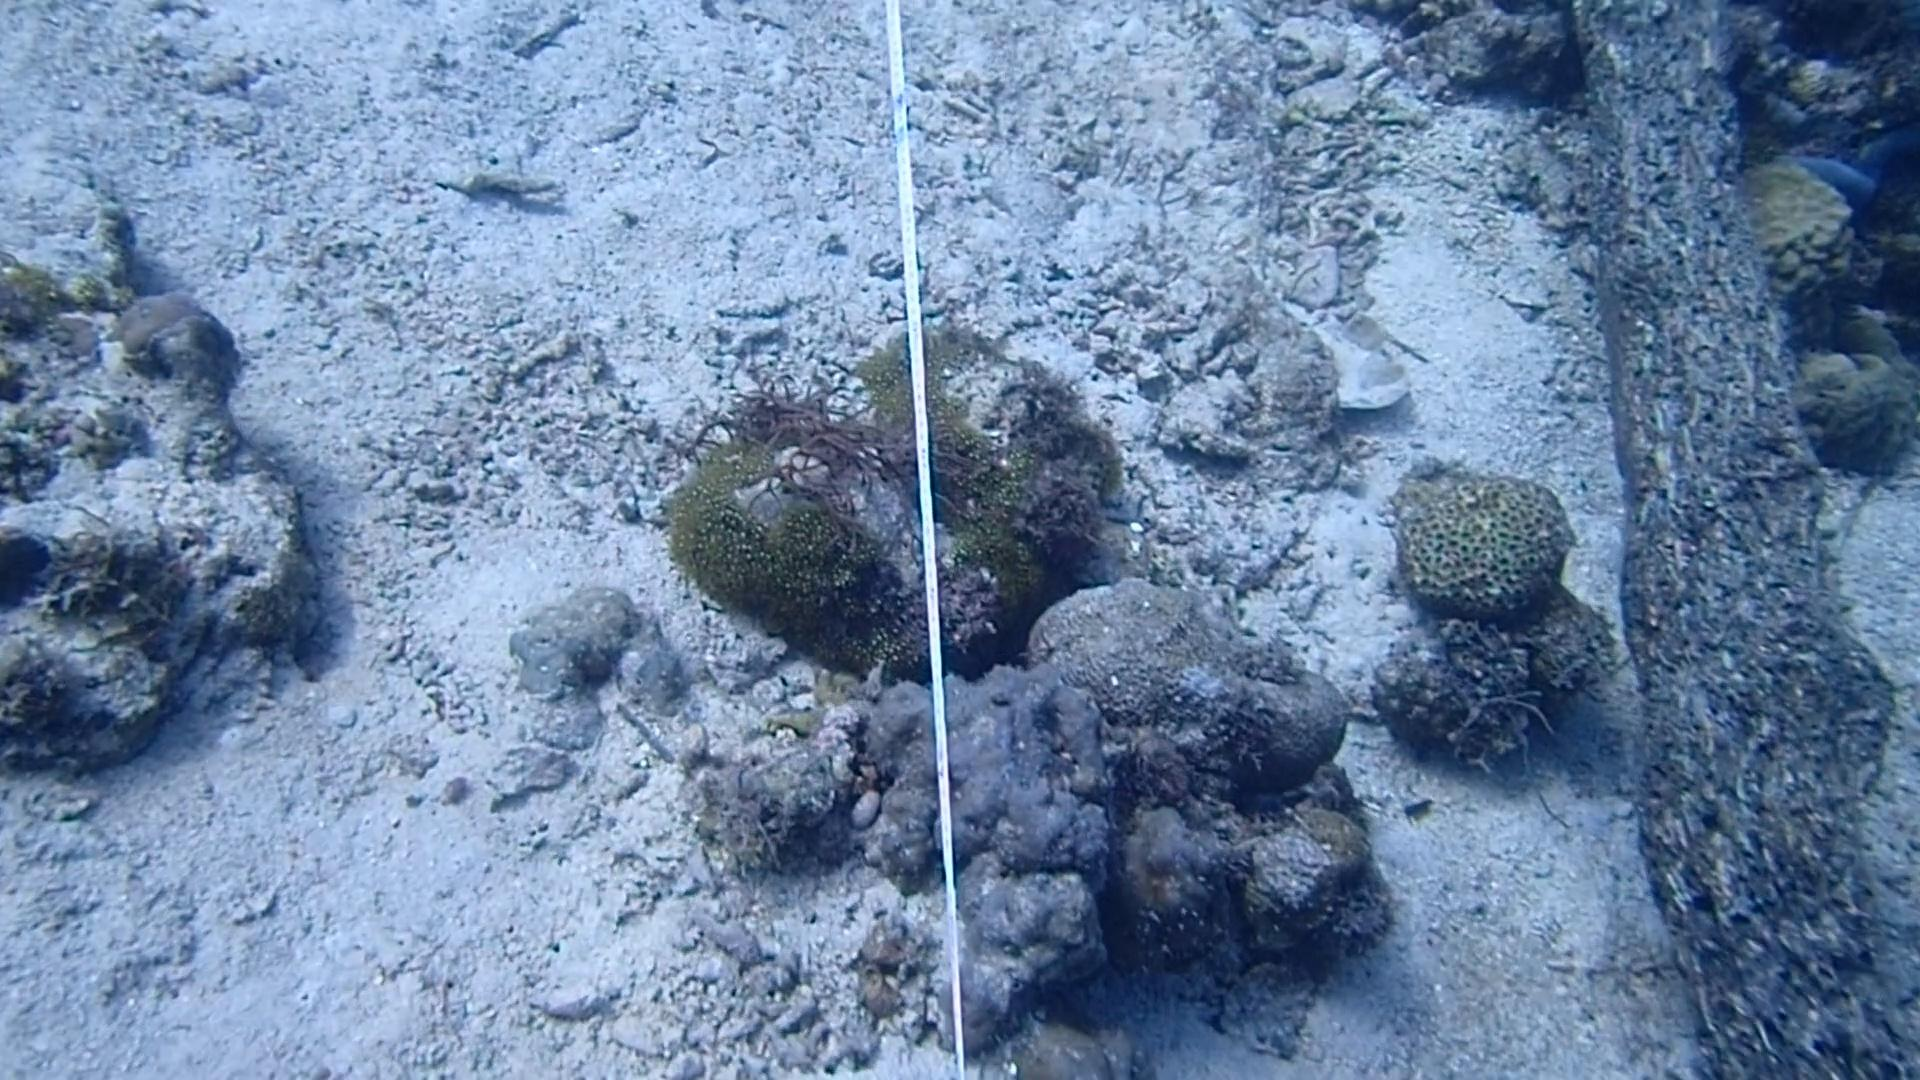UI: (1400, 794, 1437, 831)
